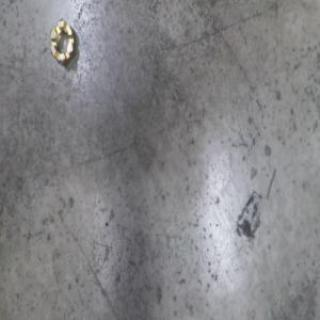Nuttrack_idkeyframe: (47, 17, 76, 69)
